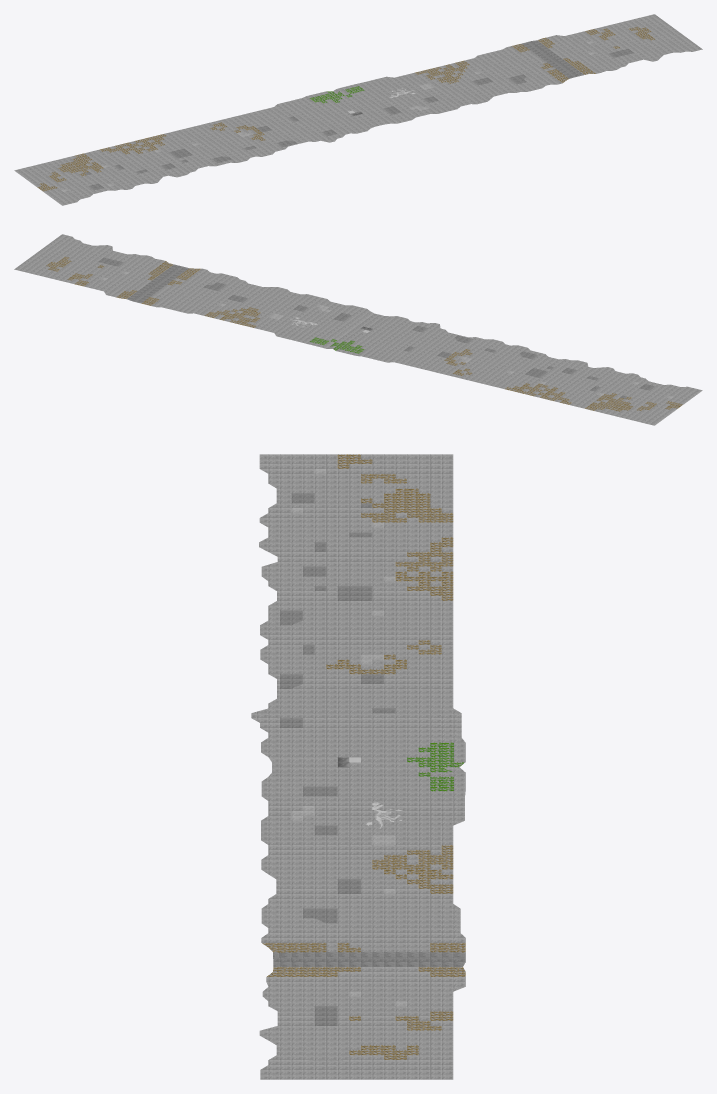
The model's file is WallFar_smooth.obj.
3 views of the same model, one above another, from view 1: azimuth 30°, elevation 25°; view 2: azimuth 150°, elevation 25°; view 3: azimuth 270°, elevation 25° (orthographic). The views are drawn at different scales.
Parts seen in each view (by area): view 1: WallFar_smooth; view 2: WallFar_smooth; view 3: WallFar_smooth.
Boxes of the visible parts, <box> form: WallFar_smooth: <box>14,14,702,205</box>; WallFar_smooth: <box>14,234,702,425</box>; WallFar_smooth: <box>251,454,465,1079</box>.
Bounding box in the file's own units: 128 × 0.1084 × 18.56.
